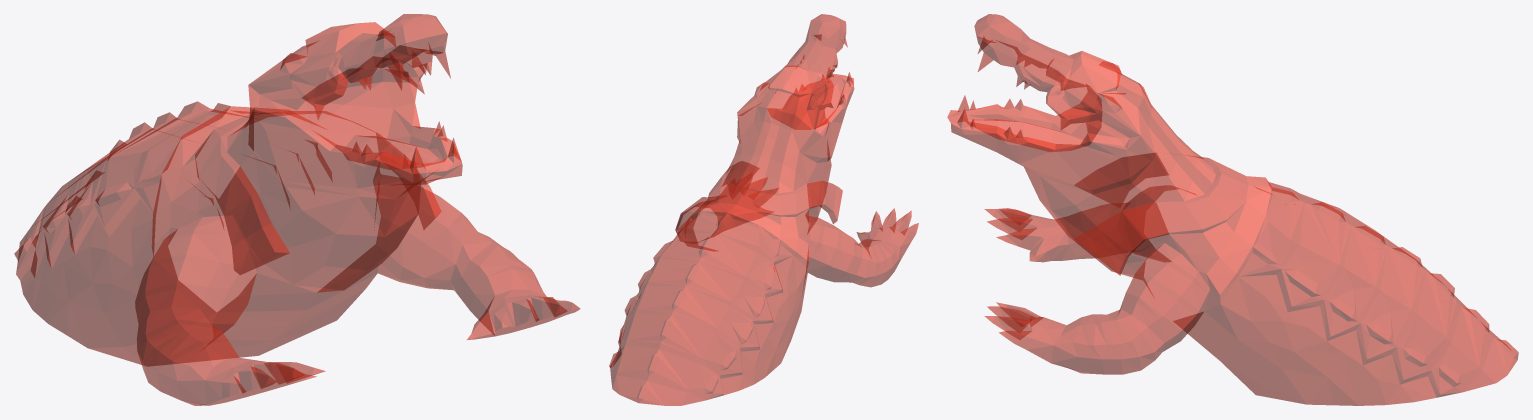
The model's file is zebak_phantom.glb.
The picture shows the model from 3 angles, left to right: view 1: azimuth 30°, elevation 25°; view 2: azimuth 150°, elevation 25°; view 3: azimuth 270°, elevation 25°; orthographic projection. The views are drawn at different scales.
Bounding box in the file's own units: 628 × 722 × 1093.
1 material, 1 textured.
